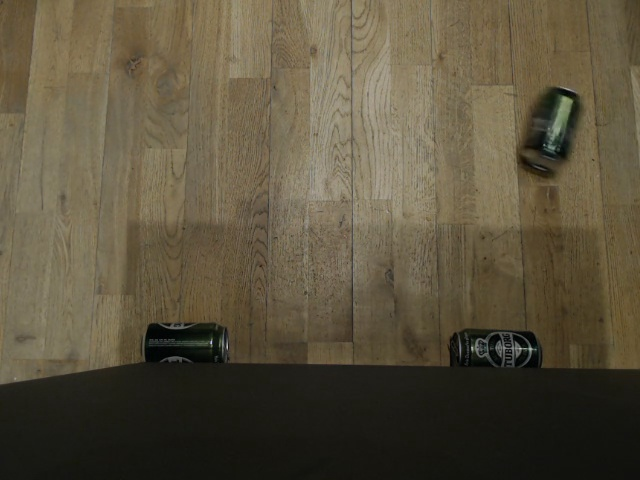beer: (519, 83, 578, 173), (138, 320, 230, 367), (446, 328, 546, 366)
